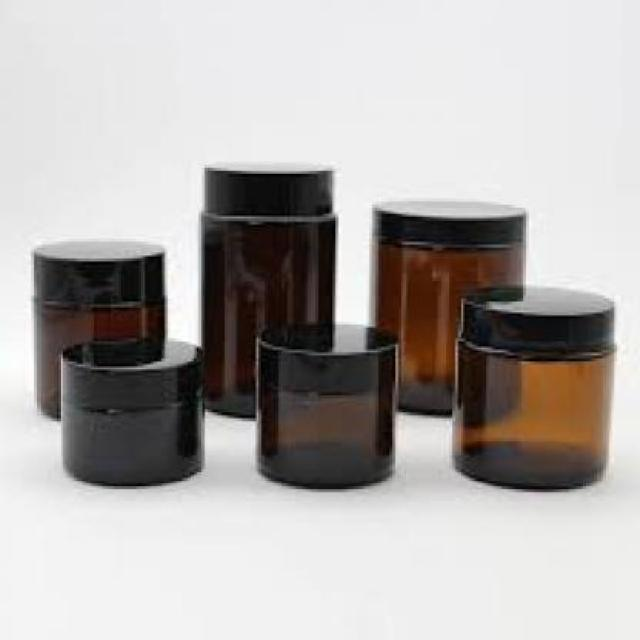kaca: (365, 234, 523, 415), (200, 211, 334, 412), (452, 336, 611, 492), (254, 378, 392, 489), (32, 296, 163, 412), (57, 390, 201, 484)
